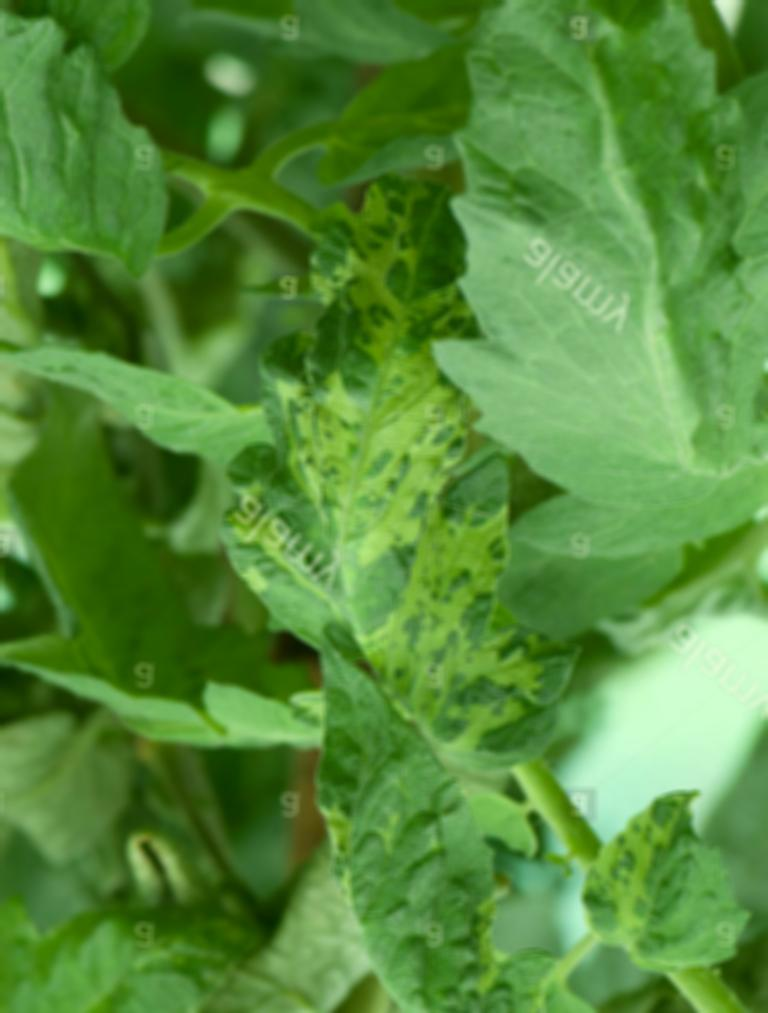Tomato leaf mosaic virus: (225, 167, 544, 823), (428, 0, 768, 535), (279, 651, 630, 1013), (549, 772, 741, 962)
